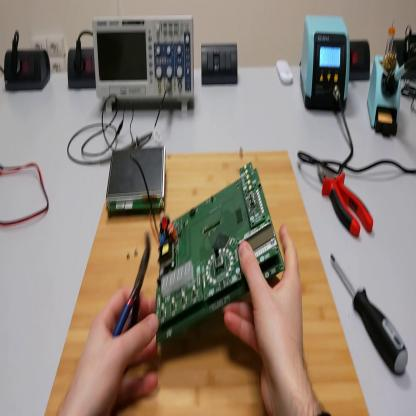hand: (227, 221, 307, 399), (66, 284, 159, 416)
low voltage board: (132, 159, 288, 351)
oscilloscope: (94, 18, 198, 118)
oscilloscope probe tip: (100, 134, 154, 163)
screwdriver-: (331, 253, 410, 377)
socket: (4, 49, 52, 90), (67, 48, 97, 91), (350, 38, 371, 85), (392, 35, 416, 76)
welder base: (368, 26, 402, 138)
welder probe tip: (387, 57, 416, 93)
welder station: (302, 14, 352, 113)
working area: (45, 154, 369, 416)
